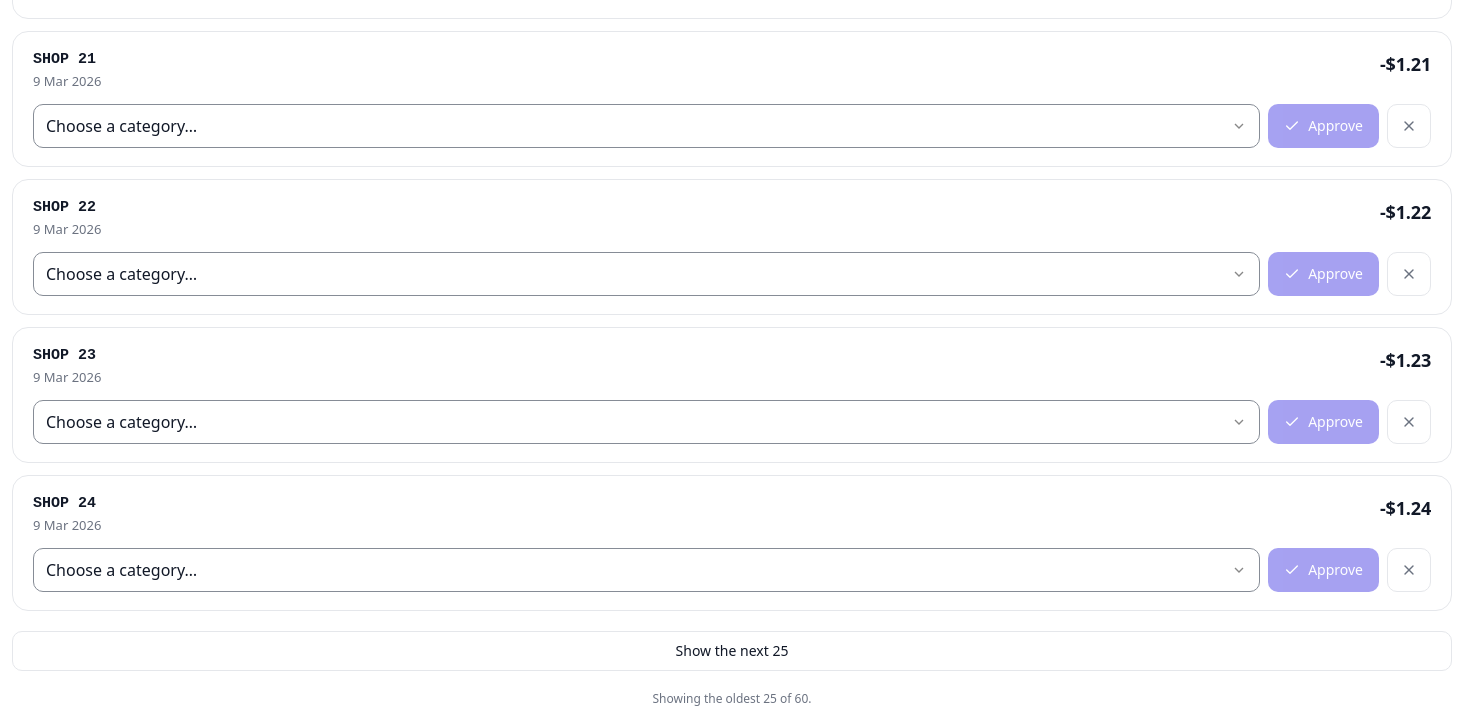
Test: ReviewScreen, a long queue (PERF-1) › draws the oldest 25, and 25 more each time it is asked
(page scrolled)
Expected: the text "Showing the oldest 25 of 60." is shown, [652, 690, 812, 706]
Click the button "Show the next 25". click: (732, 651)
box: [12, 631, 1452, 671]
(page scrolled)
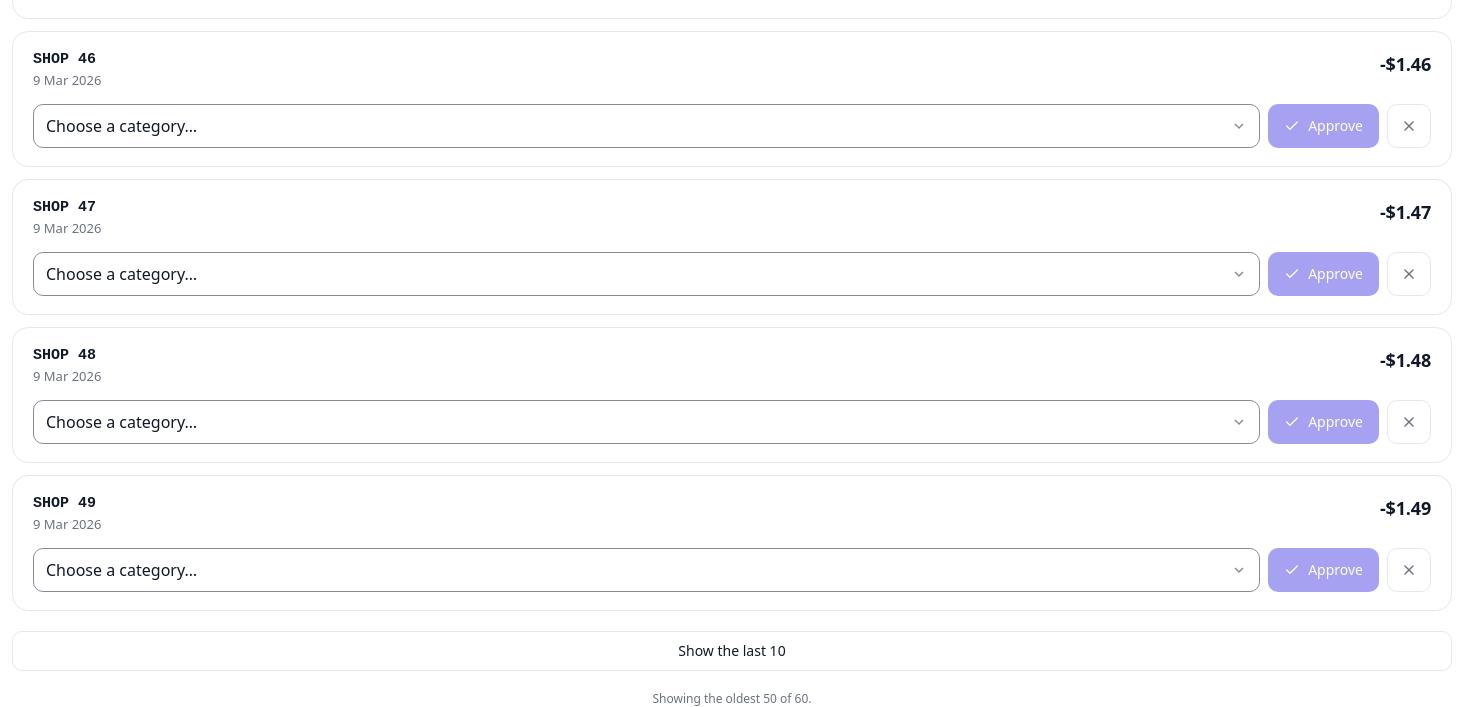
Click the button "Show the last 10". click: (732, 651)
box: [12, 631, 1452, 671]
(page scrolled)
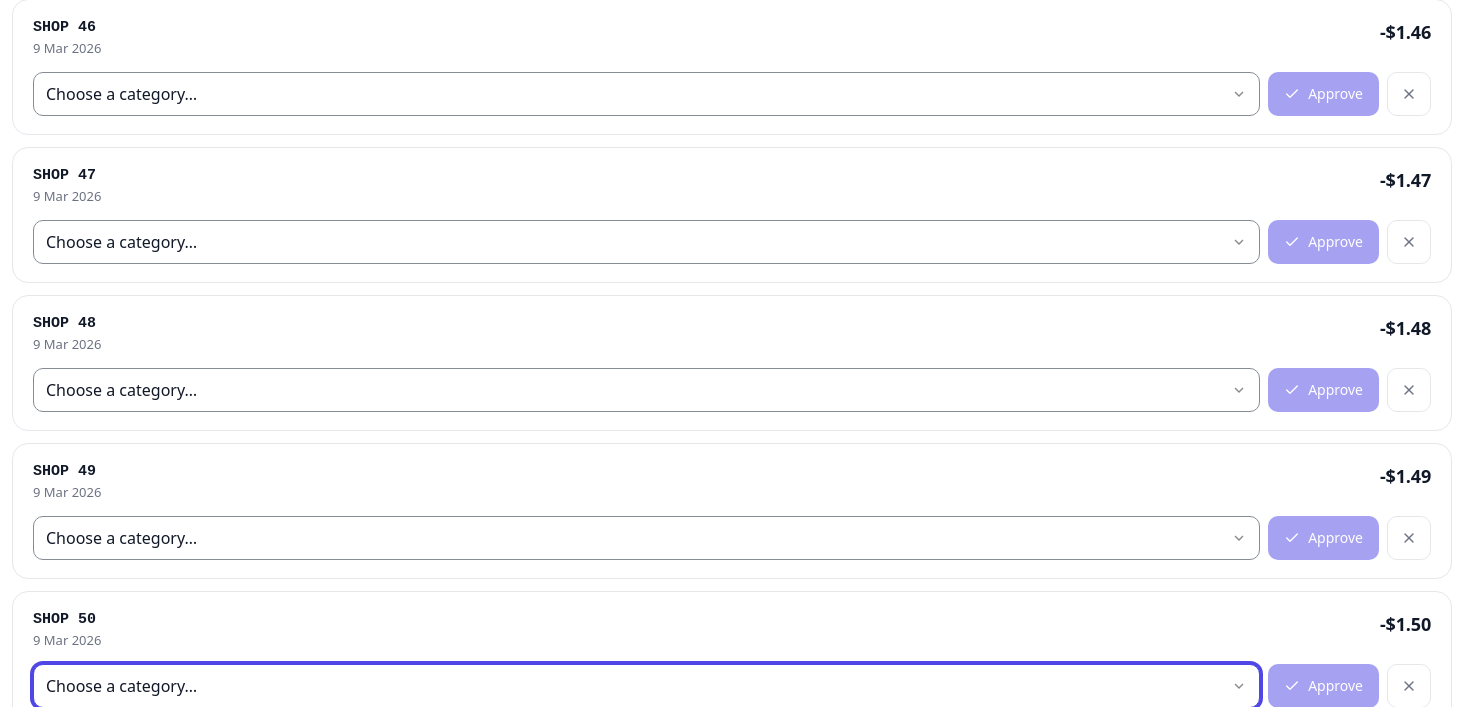
Expected: the button "Show the" is gone
Expected: the text "Showing the oldest" is gone
